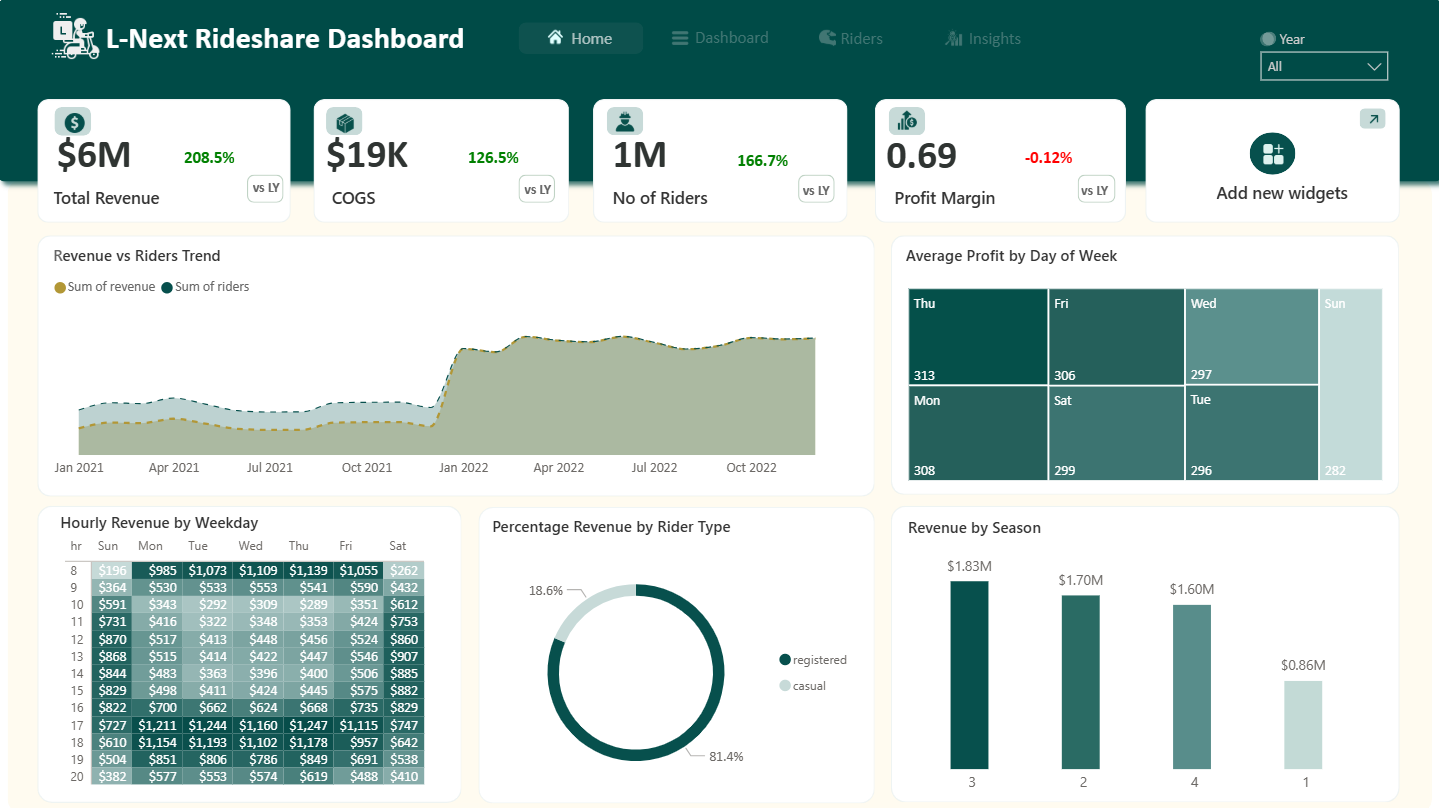

The dashboard page shown, as its layout file describes it:
{"tool":"powerbi","page":{"name":"Page 4","canvas":[1280,720],"ordinal":4},"visuals":[{"type":"shape","box":[17.5,167.1,1245.9,552.8],"z":0},{"type":"shape","box":[0,0,1280,177.4],"z":1000},{"type":"shape","box":[43.3,95.9,221.8,108.3],"z":2000},{"type":"shape","box":[789.7,452,445,259.6],"z":3000},{"type":"shape","box":[43.1,215.5,732.6,228.5],"z":4000},{"type":"lineChart","fields":{"Category":["public final_bike_share.dteday.Variation.Date Hierarchy.Year","public final_bike_share.dteday.Variation.Date Hierarchy.Month"],"Y":["Sum(public final_bike_share.revenue)"],"Y2":["Sum(public final_bike_share.riders)"]},"box":[52.6,241.3,699.3,193.9],"z":5000},{"type":"shape","box":[790.1,215.6,444.5,226.9],"z":6000},{"type":"clusteredColumnChart","fields":{"Category":["public final_bike_share.season"],"Y":["Sum(public final_bike_share.revenue)"]},"box":[797.3,480.6,417.7,231],"z":7000},{"type":"treemap","fields":{"Group":["public final_bike_share.weekday_clean"],"Values":["Avg(public final_bike_share.profit)"]},"box":[799.3,256.8,424.9,178.4],"z":8000},{"type":"shape","box":[43.3,451.8,371.3,259.9],"z":9000},{"type":"shape","box":[428.9,453,346.8,259.6],"z":10000},{"type":"donutChart","fields":{"Category":["public final_bike_share.rider_type"],"Y":["Sum(public final_bike_share.revenue)"]},"box":[436.3,476.5,330,243.4],"z":11000},{"type":"pivotTable","fields":{"Rows":["public final_bike_share.hr"],"Values":["Avg(public final_bike_share.revenue)"],"Columns":["public final_bike_share.weekday_clean"]},"box":[61.9,474.4,335.2,245.5],"z":12000},{"type":"shape","box":[284.7,95.9,223.8,108.3],"z":13000},{"type":"shape","box":[529.1,95.9,222.8,108.3],"z":14000},{"type":"shape","box":[775.6,95.9,219.7,108.3],"z":15000},{"type":"shape","box":[1011.8,95.9,222.8,108.3],"z":16000},{"type":"cardVisual","fields":{"Data":["Sum(public final_bike_share.revenue)"]},"box":[43.3,97,147.5,75.3],"z":17000},{"type":"cardVisual","fields":{"Data":["Sum(public final_bike_share.cogs)"]},"box":[279,96.9,170.2,75.4],"z":18000},{"type":"cardVisual","fields":{"Data":["Sum(public final_bike_share.riders)"]},"box":[528.9,96.9,110.9,75.4],"z":19000},{"type":"cardVisual","fields":{"Data":["public final_bike_share.Profit Margin"]},"box":[769.1,98,169.1,73.2],"z":20000},{"type":"textbox","box":[52.6,167.1,145.4,38.2],"z":21000},{"type":"textbox","box":[296,167.1,145.4,38.2],"z":22000},{"type":"textbox","box":[541.5,167.1,145.4,38.2],"z":23000},{"type":"textbox","box":[788,167.1,145.4,38.2],"z":24000},{"type":"cardVisual","fields":{"Data":["public final_bike_share.Revenue YOY%"]},"box":[154.3,97.2,87.2,93.2],"z":25000},{"type":"cardVisual","fields":{"Data":["public final_bike_share.Riders YoY%"]},"box":[638.8,100.4,108.8,92.6],"z":26000},{"type":"cardVisual","fields":{"Data":["public final_bike_share.Profit Margin YoY%"]},"box":[890.1,113.5,98,60.9],"z":27000},{"type":"cardVisual","fields":{"Data":["public final_bike_share.C0GS YOY%"]},"box":[403.3,100.7,94.8,88.3],"z":28000},{"type":"textbox","box":[98,20.6,400.2,44.4],"z":29000},{"type":"textbox","box":[797.3,218.7,311.5,38.2],"z":30000},{"type":"textbox","box":[52.6,218.7,311.5,38.2],"z":31000},{"type":"textbox","box":[436.3,455.9,311.5,38.2],"z":32000},{"type":"textbox","box":[799.3,456.9,311.5,38.2],"z":33000},{"type":"textbox","box":[52.6,452.8,311.5,38.2],"z":34000},{"type":"shape","box":[1103.6,124.8,40.2,37.1],"z":35000},{"type":"textbox","box":[1069.3,162.4,145.3,38.1],"z":36000},{"type":"textbox","box":[505.4,28.9,112.4,44.4],"z":37000},{"type":"textbox","box":[613.7,27.8,112.4,44.4],"z":38000},{"type":"textbox","box":[740.5,28.9,112.4,44.4],"z":39000},{"type":"textbox","box":[853,28.9,112.4,44.4],"z":40000},{"type":"slicer","fields":{"Values":["public final_bike_share.Year"]},"box":[1103.6,45.4,131,52.6],"z":41000},{"type":"textbox","box":[1124.2,28.7,112.4,37.1],"z":42000},{"type":"shape","box":[58.1,103.2,32.1,25.1],"z":43000},{"type":"shape","box":[296,103.1,32,24.8],"z":44000},{"type":"shape","box":[541.5,103.1,32,24.8],"z":45000},{"type":"shape","box":[788,103.1,32,24.8],"z":46000},{"type":"image","box":[60.1,103.2,32.1,28.1],"z":47000},{"type":"image","box":[286.7,103.1,51.6,28.9],"z":48000},{"type":"image","box":[543.5,100,27.8,30.9],"z":49000},{"type":"image","box":[790.1,101.1,28.9,26.8],"z":50000},{"type":"image","box":[1106.7,128.9,35.1,29.9],"z":51000},{"type":"shape","box":[464.1,28.9,109.3,27.8],"z":52000},{"type":"image","box":[474.4,29.9,44.4,23.7],"z":53000},{"type":"image","box":[592,27.8,25.8,28.9],"z":54000},{"type":"image","box":[722,29.9,25.8,24.8],"z":55000},{"type":"image","box":[829.2,28.9,30.9,25.8],"z":56000},{"type":"shape","box":[1112.2,38,12.4,12.4],"z":57000},{"type":"image","box":[48.7,13.4,54.7,54.7],"z":58000},{"type":"textbox","box":[57.8,451.8,311.5,38.2],"z":59000},{"type":"shape","box":[1114.3,36.6,12.4,12.4],"z":60000},{"type":"shape","box":[1199.6,104.2,23,18],"z":61000},{"type":"image","box":[1200,100.7,25.1,25.1],"z":62000},{"type":"shape","box":[464.1,161.9,32,24.8],"z":63000},{"type":"textbox","box":[707.5,159.9,44.4,27.8],"z":64000},{"type":"shape","box":[226.9,161.9,32,24.8],"z":65000},{"type":"shape","box":[708.6,161.9,32,24.8],"z":66000},{"type":"shape","box":[953,161.9,33,24.8],"z":67000},{"type":"textbox","box":[464.1,159.9,44.4,27.8],"z":68000},{"type":"textbox","box":[951,160.9,44.4,27.8],"z":69000},{"type":"textbox","box":[226.9,158.8,44.4,27.8],"z":70000},{"type":"textbox","box":[707.5,160.9,44.4,27.8],"z":71000}]}

Visuals, with their boxes in screenshot pixels (x1, y1, x2, y2), scaled from the page's 1280x720 canvas onto the 1439x808 screenshot:
shape: crop(20, 188, 1420, 807)
shape: crop(0, 0, 1438, 199)
shape: crop(49, 108, 298, 229)
shape: crop(888, 507, 1388, 799)
shape: crop(48, 242, 872, 498)
lineChart - public final_bike_share.dteday.Variation.Date Hierarchy.Year x public final_bike_share.dteday.Variation.Date Hierarchy.Month: crop(59, 271, 845, 488)
shape: crop(888, 242, 1388, 497)
clusteredColumnChart - public final_bike_share.season x Sum(public final_bike_share.revenue): crop(896, 539, 1366, 799)
treemap - public final_bike_share.weekday_clean x Avg(public final_bike_share.profit): crop(899, 288, 1376, 488)
shape: crop(49, 507, 466, 799)
shape: crop(482, 508, 872, 800)
donutChart - public final_bike_share.rider_type x Sum(public final_bike_share.revenue): crop(490, 535, 861, 807)
pivotTable - public final_bike_share.hr x Avg(public final_bike_share.revenue): crop(70, 532, 446, 807)
shape: crop(320, 108, 572, 229)
shape: crop(595, 108, 845, 229)
shape: crop(872, 108, 1119, 229)
shape: crop(1137, 108, 1388, 229)
cardVisual - Sum(public final_bike_share.revenue): crop(49, 109, 215, 193)
cardVisual - Sum(public final_bike_share.cogs): crop(314, 109, 505, 193)
cardVisual - Sum(public final_bike_share.riders): crop(595, 109, 719, 193)
cardVisual - public final_bike_share.Profit Margin: crop(865, 110, 1055, 192)
textbox: crop(59, 188, 223, 230)
textbox: crop(333, 188, 496, 230)
textbox: crop(609, 188, 772, 230)
textbox: crop(886, 188, 1049, 230)
cardVisual - public final_bike_share.Revenue YOY%: crop(173, 109, 271, 214)
cardVisual - public final_bike_share.Riders YoY%: crop(718, 113, 840, 217)
cardVisual - public final_bike_share.Profit Margin YoY%: crop(1001, 127, 1111, 196)
cardVisual - public final_bike_share.C0GS YOY%: crop(453, 113, 560, 212)
textbox: crop(110, 23, 560, 73)
textbox: crop(896, 245, 1247, 288)
textbox: crop(59, 245, 409, 288)
textbox: crop(490, 512, 841, 554)
textbox: crop(899, 513, 1249, 556)
textbox: crop(59, 508, 409, 551)
shape: crop(1241, 140, 1286, 182)
textbox: crop(1202, 182, 1365, 225)
textbox: crop(568, 32, 695, 82)
textbox: crop(690, 31, 816, 81)
textbox: crop(832, 32, 959, 82)
textbox: crop(959, 32, 1085, 82)
slicer - public final_bike_share.Year: crop(1241, 51, 1388, 110)
textbox: crop(1264, 32, 1390, 74)
shape: crop(65, 116, 101, 144)
shape: crop(333, 116, 369, 144)
shape: crop(609, 116, 645, 144)
shape: crop(886, 116, 922, 144)
image: crop(68, 116, 104, 147)
image: crop(322, 116, 380, 148)
image: crop(611, 112, 642, 147)
image: crop(888, 113, 921, 144)
image: crop(1244, 145, 1284, 178)
shape: crop(522, 32, 645, 64)
image: crop(533, 34, 583, 60)
image: crop(666, 31, 695, 64)
image: crop(812, 34, 841, 61)
image: crop(932, 32, 967, 61)
shape: crop(1250, 43, 1264, 57)
image: crop(55, 15, 116, 76)
textbox: crop(65, 507, 415, 550)
shape: crop(1253, 41, 1267, 55)
shape: crop(1349, 117, 1374, 137)
image: crop(1349, 113, 1377, 141)
shape: crop(522, 182, 558, 210)
textbox: crop(795, 179, 845, 211)
shape: crop(255, 182, 291, 210)
shape: crop(797, 182, 833, 210)
shape: crop(1071, 182, 1108, 210)
textbox: crop(522, 179, 572, 211)
textbox: crop(1069, 181, 1119, 212)
textbox: crop(255, 178, 305, 209)
textbox: crop(795, 181, 845, 212)
